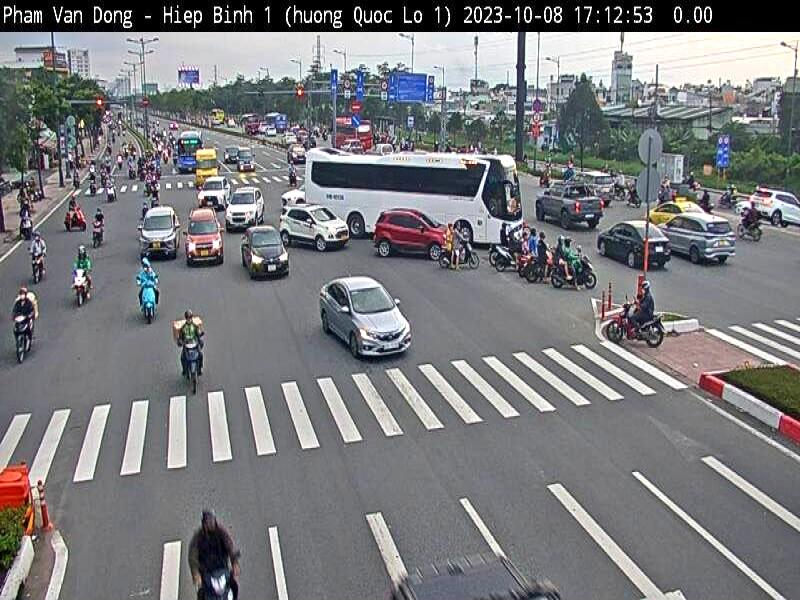bus: (304, 153, 522, 244), (173, 123, 206, 182), (334, 116, 374, 152)
car: (316, 276, 414, 360), (657, 214, 737, 268), (371, 210, 450, 260), (597, 220, 674, 271), (275, 205, 350, 252), (535, 192, 605, 230), (241, 226, 292, 278), (139, 207, 183, 260), (183, 216, 225, 266), (223, 188, 266, 232), (198, 177, 234, 208)
motorcycle: (602, 306, 666, 348), (15, 318, 36, 365), (138, 283, 161, 323)
